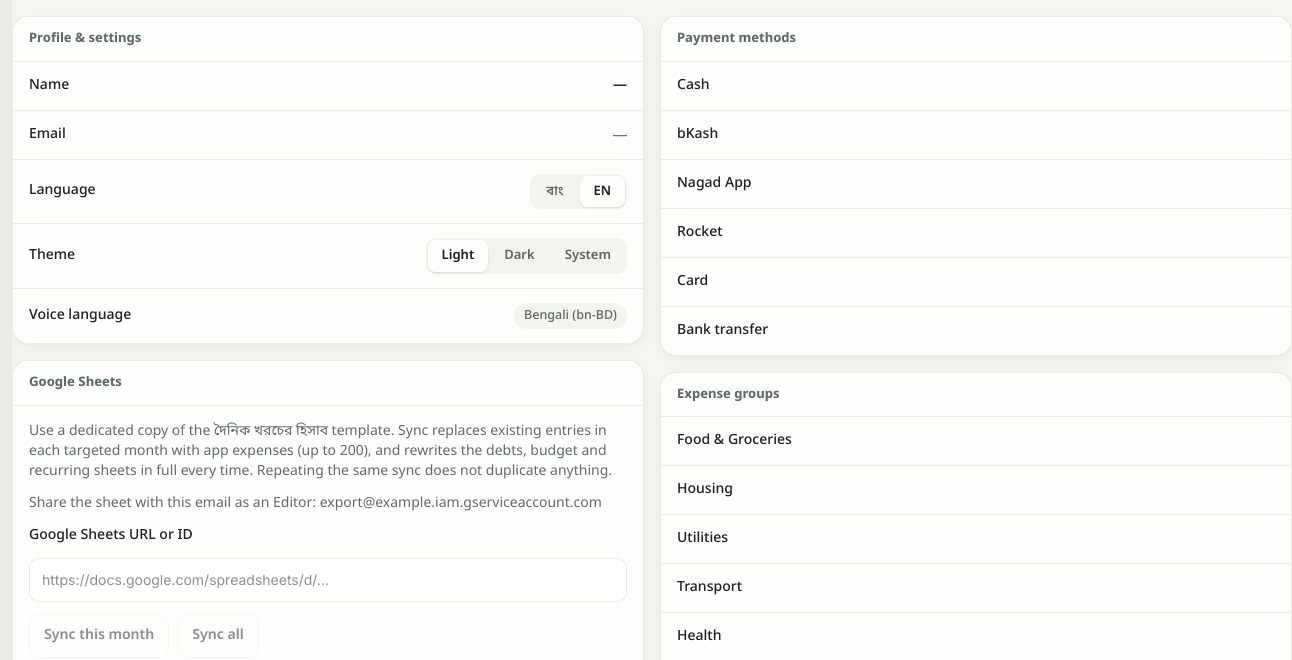
Test: Sheets settings card › rejects invalid references without making an export request
The image size is (1292, 660).
Expected: the text "export@example.iam.gserviceaccount.com" is shown, [29, 494, 602, 513]
In the field labelled "Google Sheets URL or ID": x=328, y=580 [29, 558, 627, 602], type "https://evil.example/sheet"
(page scrolled)
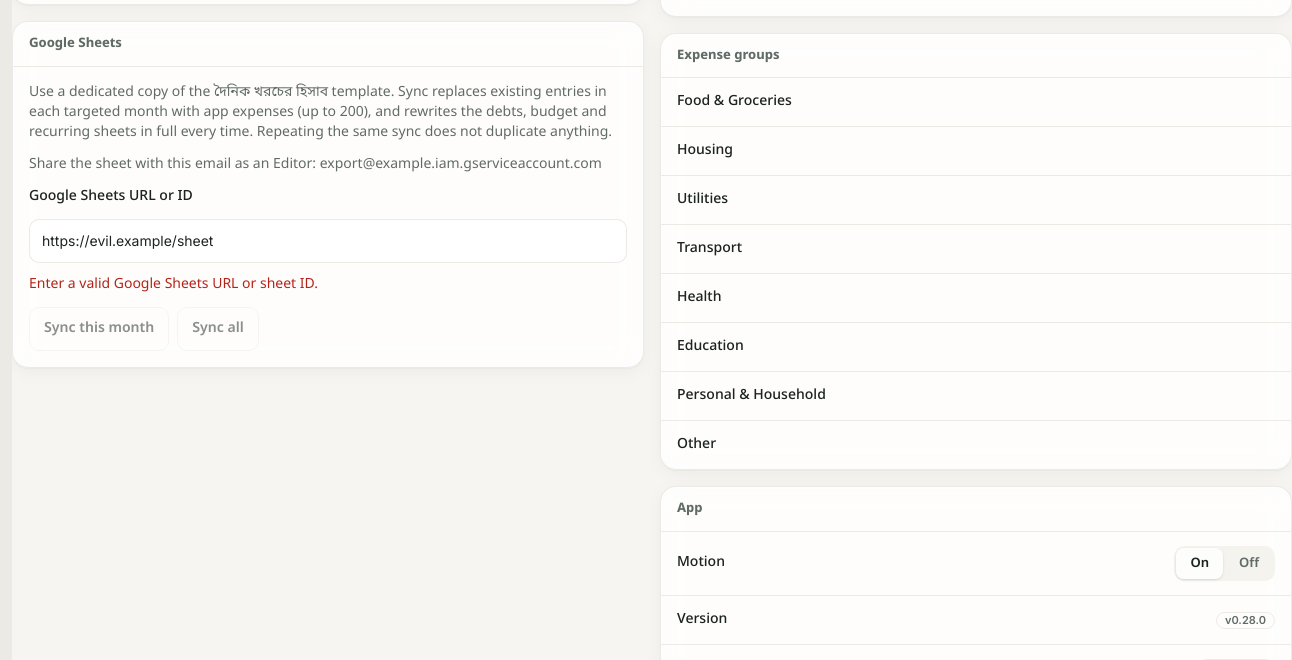
Expected: the button "Sync all" is disabled, [177, 307, 259, 351]
Expected: the message reads "Enter a valid Google Sheets URL or sheet ID.", [29, 275, 318, 294]
